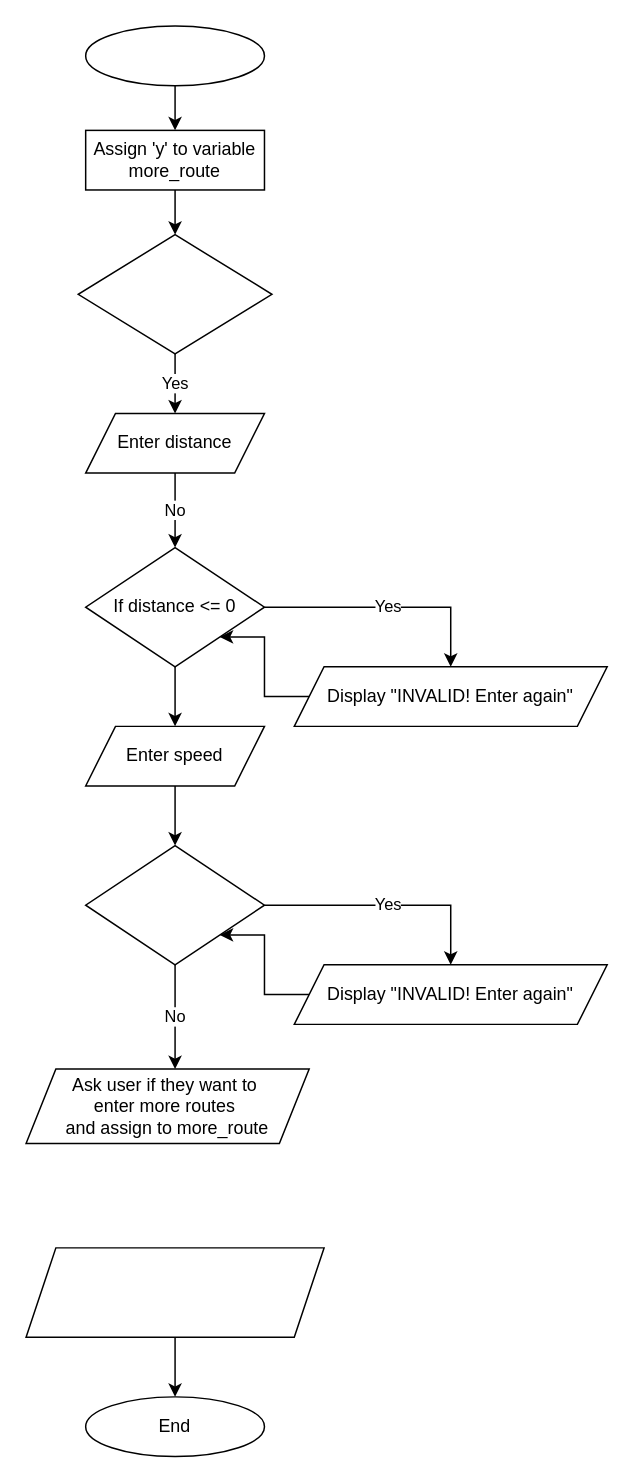
The diagram is 633 pixels wide and 1483 high, and some of its shapes have lost their labels. The centre of each missing label's shape, as x and y in pixels:
Display fastest route and time: [174,1291]
If speed <= 0: [174,904]
more_route == 'y': [174,293]
Start: [174,55]
